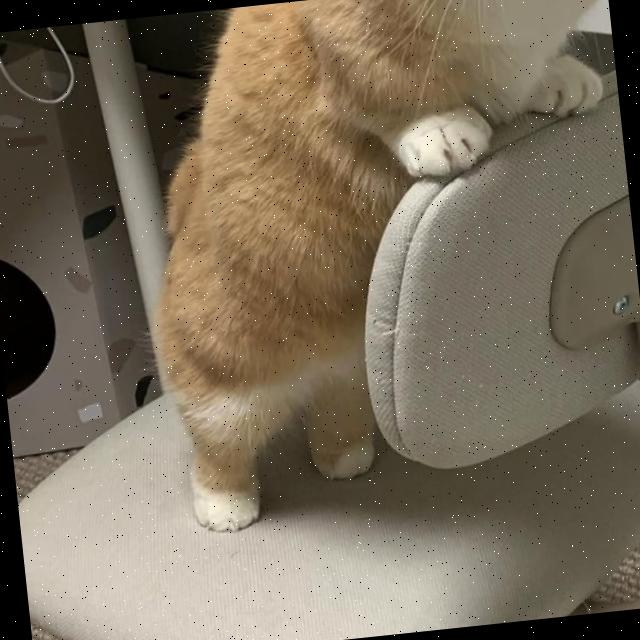cat: (132, 0, 538, 540)
